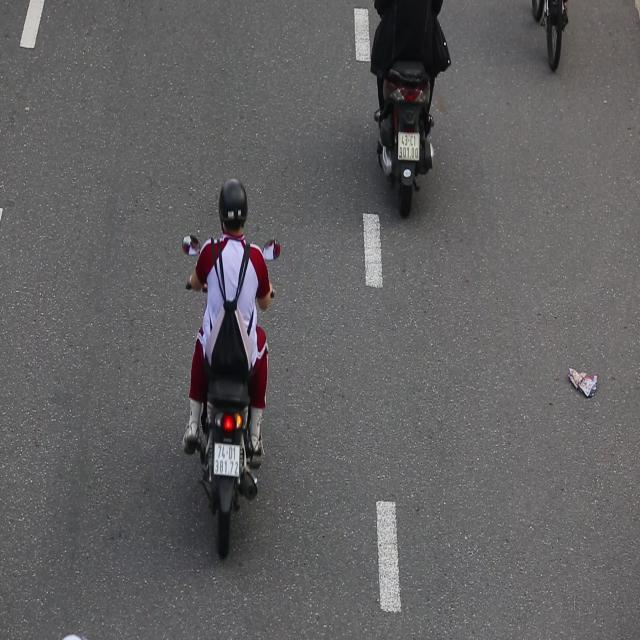motorbike: (177, 173, 283, 562)
